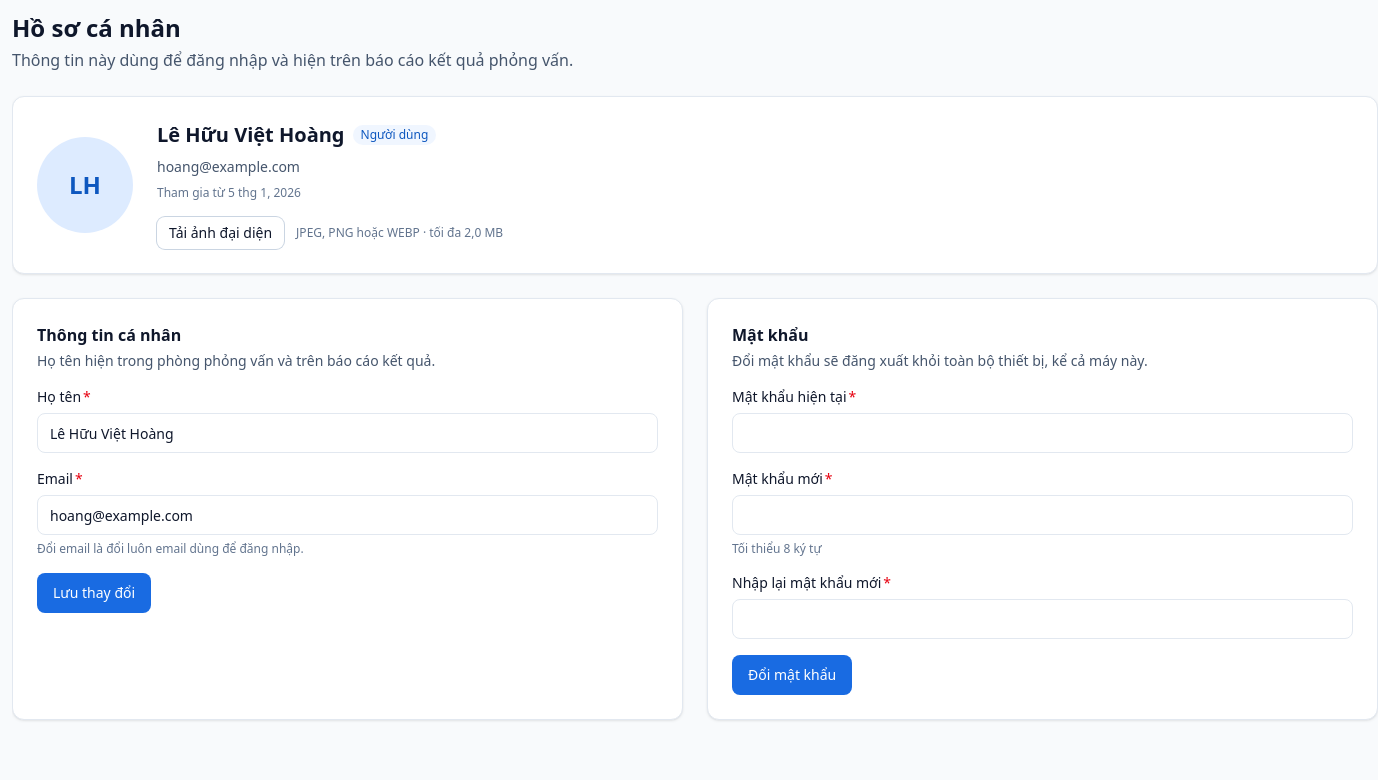
Test: sends only the edited field and reports the save
expect the heading "Lê Hữu Việt Hoàng" is shown: met, box [157, 121, 344, 149]
Replace the text in the field labelled "Họ tên" with "Việt Hoàng" at (348, 433), box [37, 413, 658, 453]
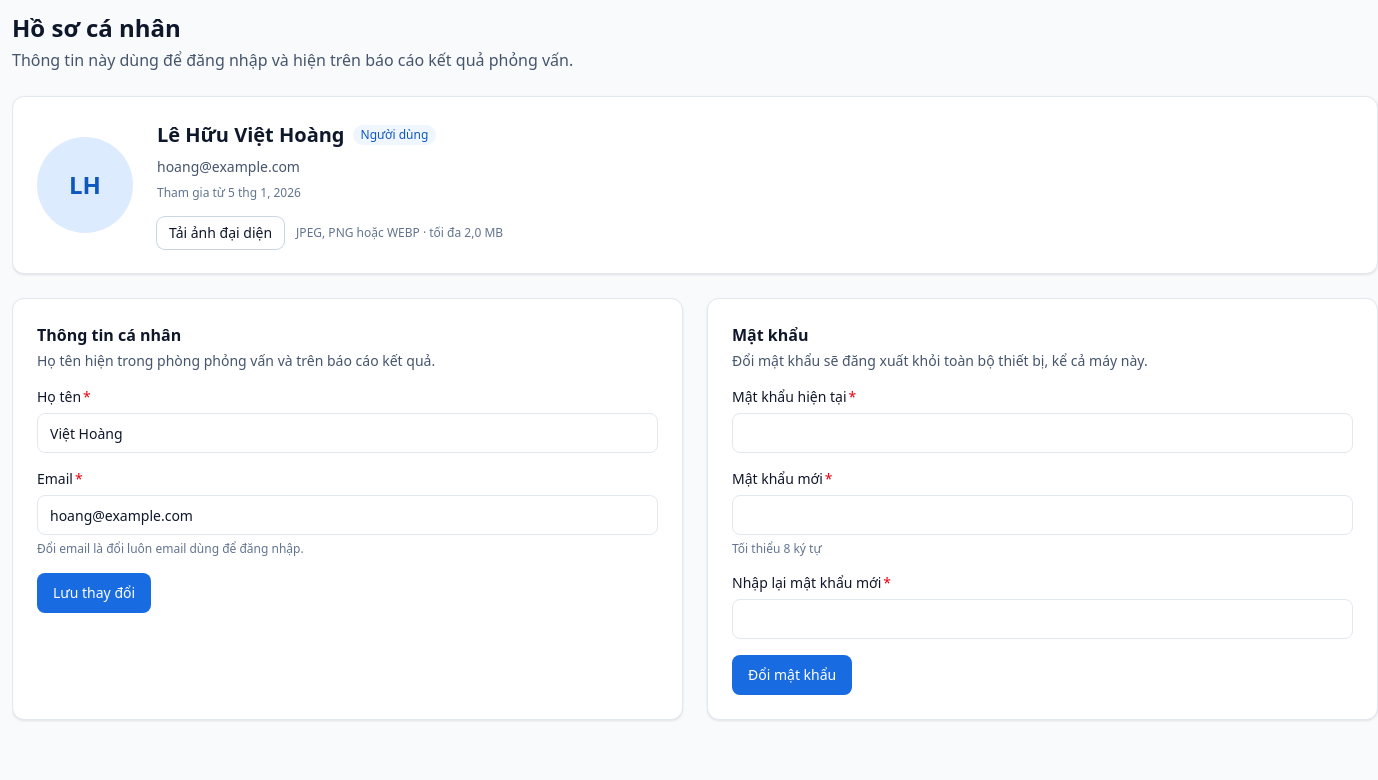
Click the button "Lưu thay đổi" at (94, 593), box [37, 573, 151, 613]
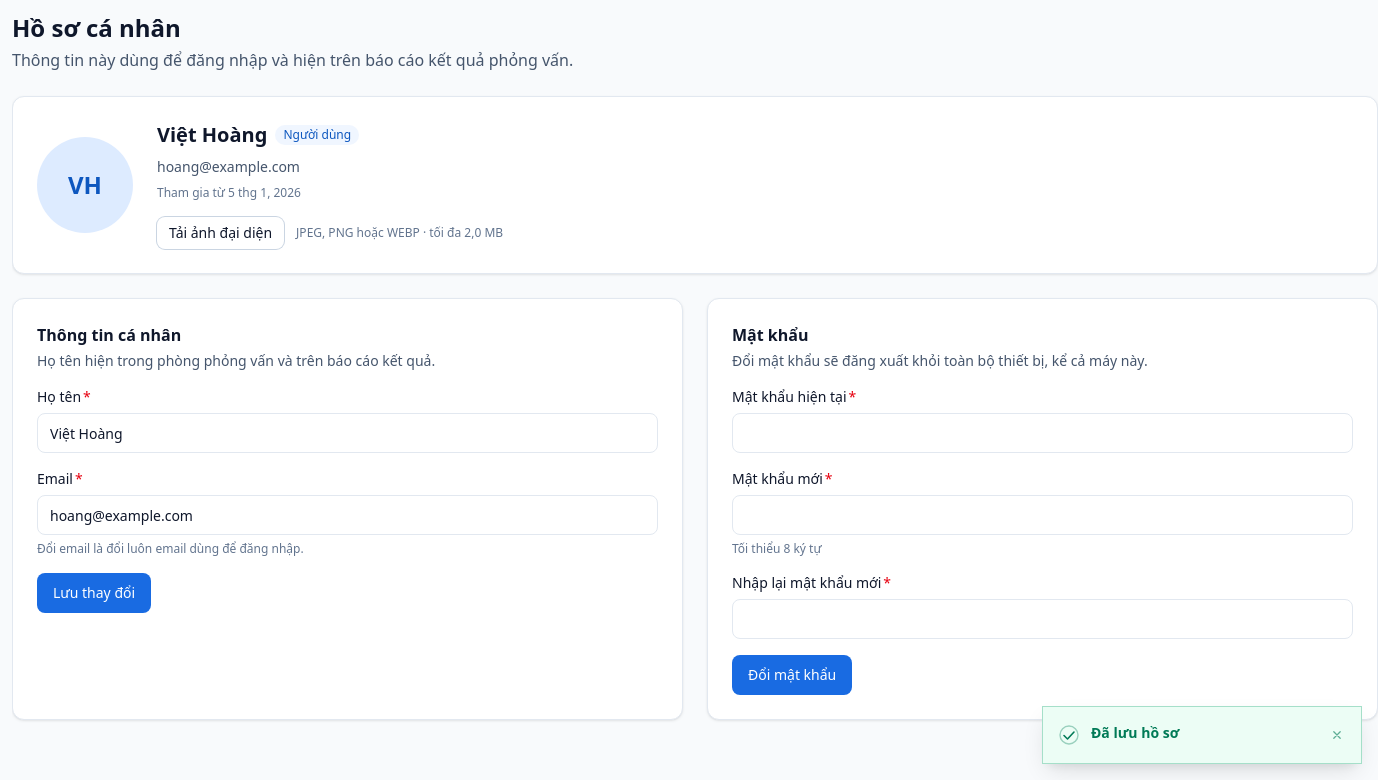
expect the text "Đã lưu hồ sơ" is shown: met, box [1091, 723, 1179, 742]
expect the heading named "Lê Hữu Việt Hoàng" reads "Việt Hoàng": met, box [157, 121, 267, 148]
